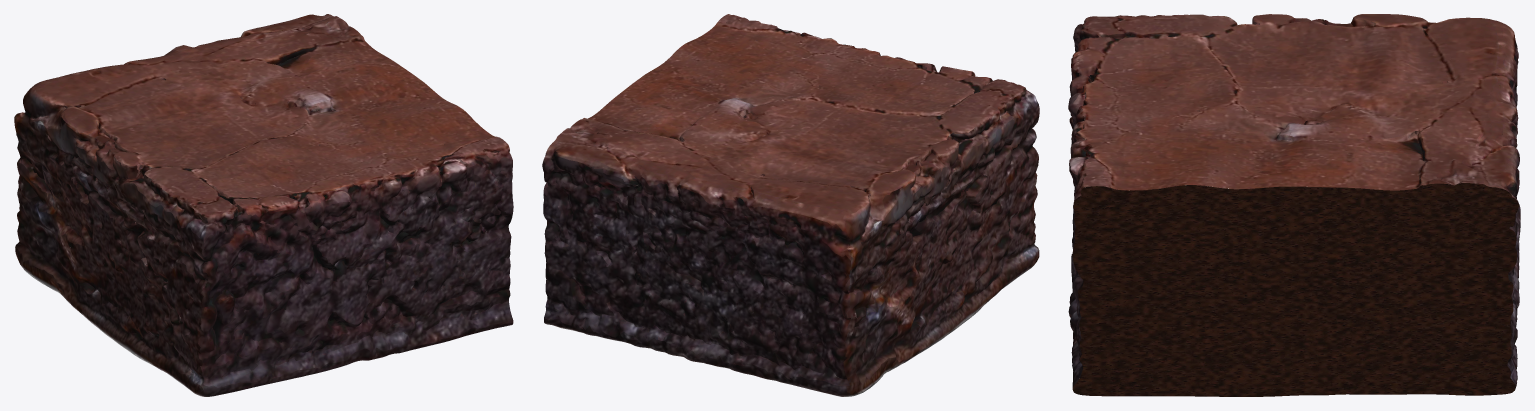
The model's file is chocolate-brownie-1.glb.
The picture shows the model from 3 angles, left to right: view 1: azimuth 30°, elevation 25°; view 2: azimuth 150°, elevation 25°; view 3: azimuth 270°, elevation 25°; orthographic projection. The views are drawn at different scales.
Visible parts, largest first — view 1: brownie-physical-calibration-80x35x65mm; view 2: brownie-physical-calibration-80x35x65mm; view 3: brownie-physical-calibration-80x35x65mm.
Part boxes in pixels (<box>): brownie-physical-calibration-80x35x65mm: <box>14,14,513,396</box>; brownie-physical-calibration-80x35x65mm: <box>542,14,1039,396</box>; brownie-physical-calibration-80x35x65mm: <box>1068,14,1520,396</box>.
Bounding box in the file's own units: 0.06 × 0.035 × 0.065.
2 materials, 2 textured.
